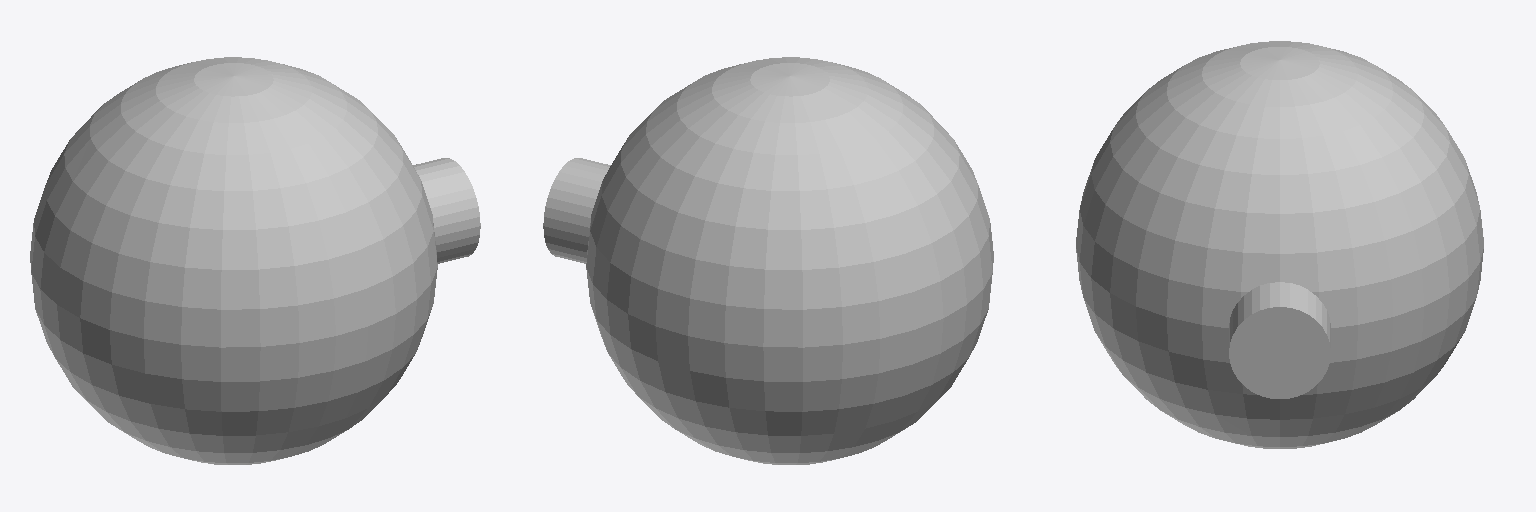
File: cam.obj
3 views of the same model, side by side, from view 1: azimuth 30°, elevation 25°; view 2: azimuth 150°, elevation 25°; view 3: azimuth 270°, elevation 25° (orthographic).
Parts seen in each view (by area): view 1: cameraSphere_Sphere.002, Cylinder.001_Cylinder.015; view 2: cameraSphere_Sphere.002, Cylinder.001_Cylinder.015; view 3: cameraSphere_Sphere.002, Cylinder.001_Cylinder.015.
Part boxes in pixels (left/top/right/bottom): cameraSphere_Sphere.002: left=30, top=57, right=437, bottom=464; Cylinder.001_Cylinder.015: left=413, top=158, right=480, bottom=263; cameraSphere_Sphere.002: left=586, top=57, right=993, bottom=464; Cylinder.001_Cylinder.015: left=543, top=158, right=610, bottom=263; cameraSphere_Sphere.002: left=1076, top=41, right=1483, bottom=448; Cylinder.001_Cylinder.015: left=1229, top=282, right=1330, bottom=398.
Bounding box in the file's own units: 0.09 × 0.08 × 0.08.